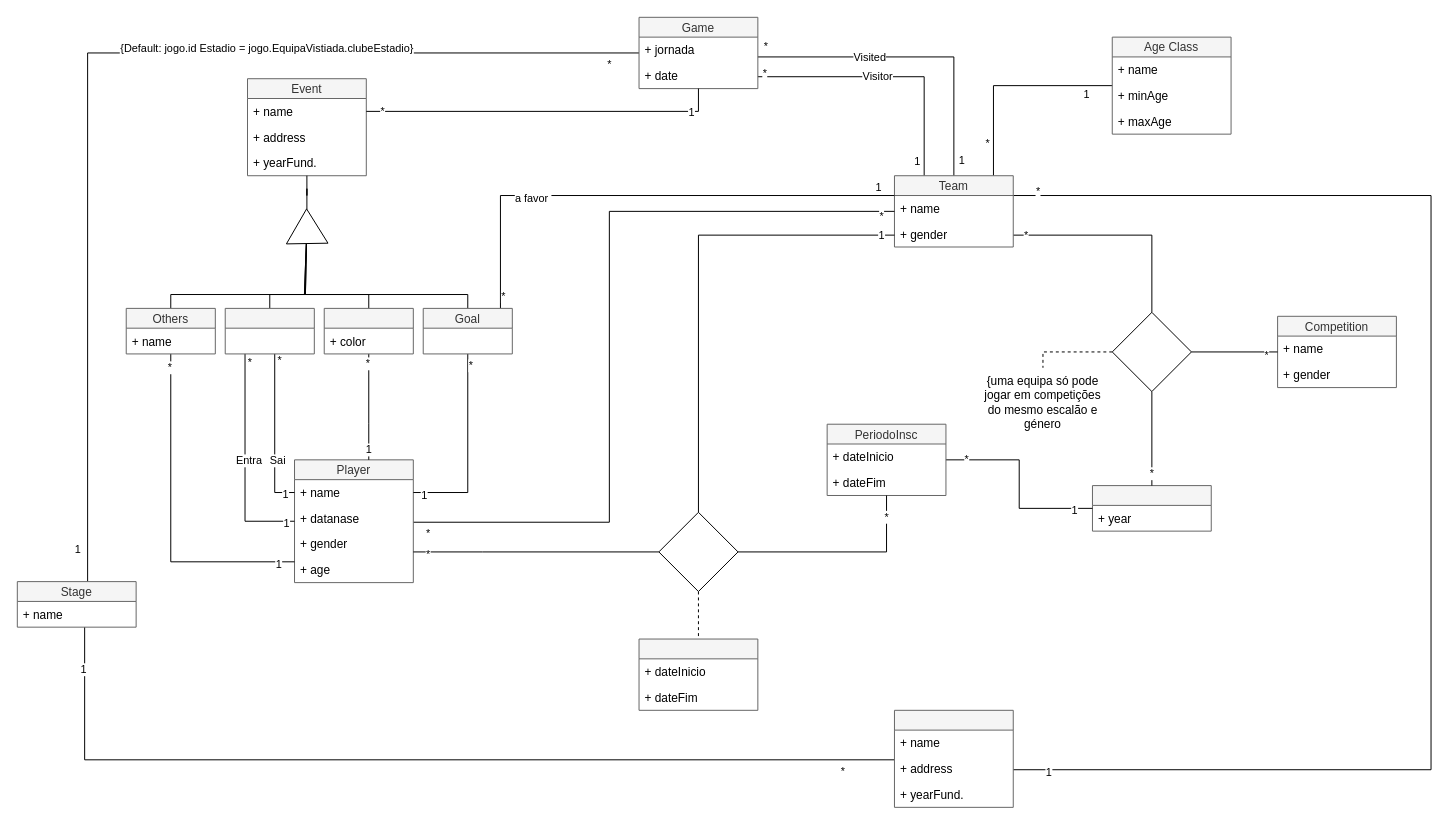
Some shapes in this 1449 by 828 pixel diagram are drawn without their labels. The box of each missing label's shape, as (x1, y1, x2, y2) in pixels:
Card: (323, 307, 413, 354)
Club: (893, 709, 1013, 807)
Inscricao: (638, 638, 758, 710)
Season: (1091, 485, 1211, 531)
Substitution: (224, 307, 314, 354)
